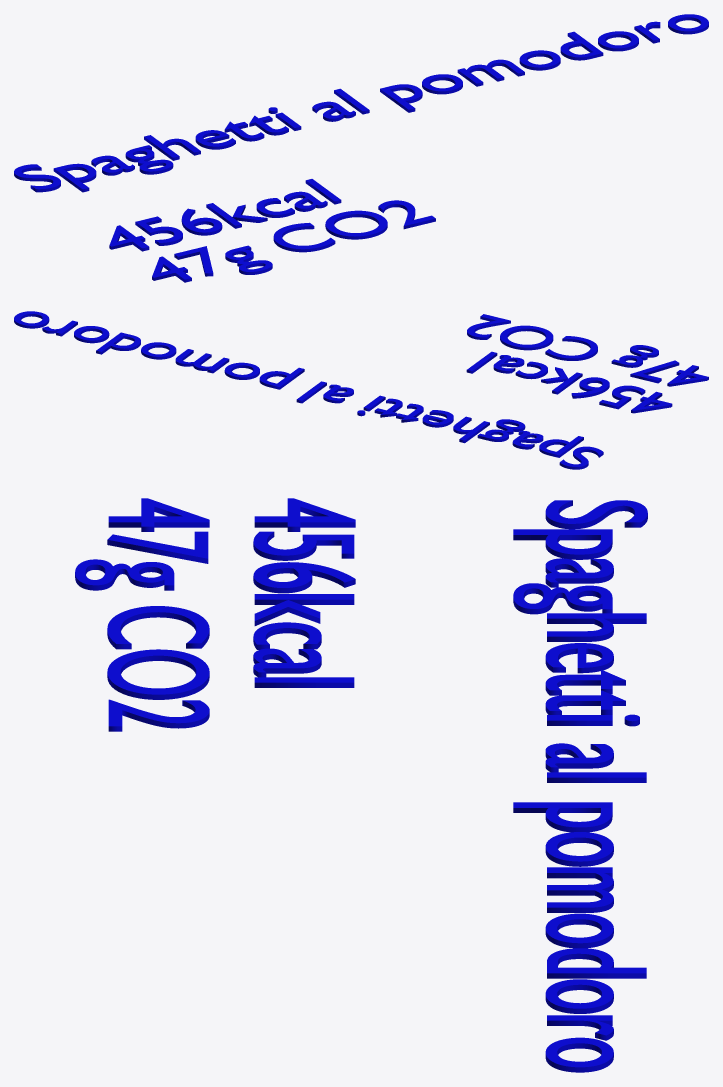
File: spaghetti-pomodoro-scene.gltf
3 views of the same model, one above another, from view 1: azimuth 30°, elevation 25°; view 2: azimuth 150°, elevation 25°; view 3: azimuth 270°, elevation 25° (orthographic). The views are drawn at different scales.
Visible parts, largest first — view 1: Text; view 2: Text; view 3: Text.
Part boxes in pixels (x1=…): Text: x1=14, y1=14, x2=708, y2=282; Text: x1=14, y1=311, x2=708, y2=469; Text: x1=75, y1=498, x2=647, y2=1072.
Bounding box in the file's own units: 9.22 × 0.04 × 3.92.
